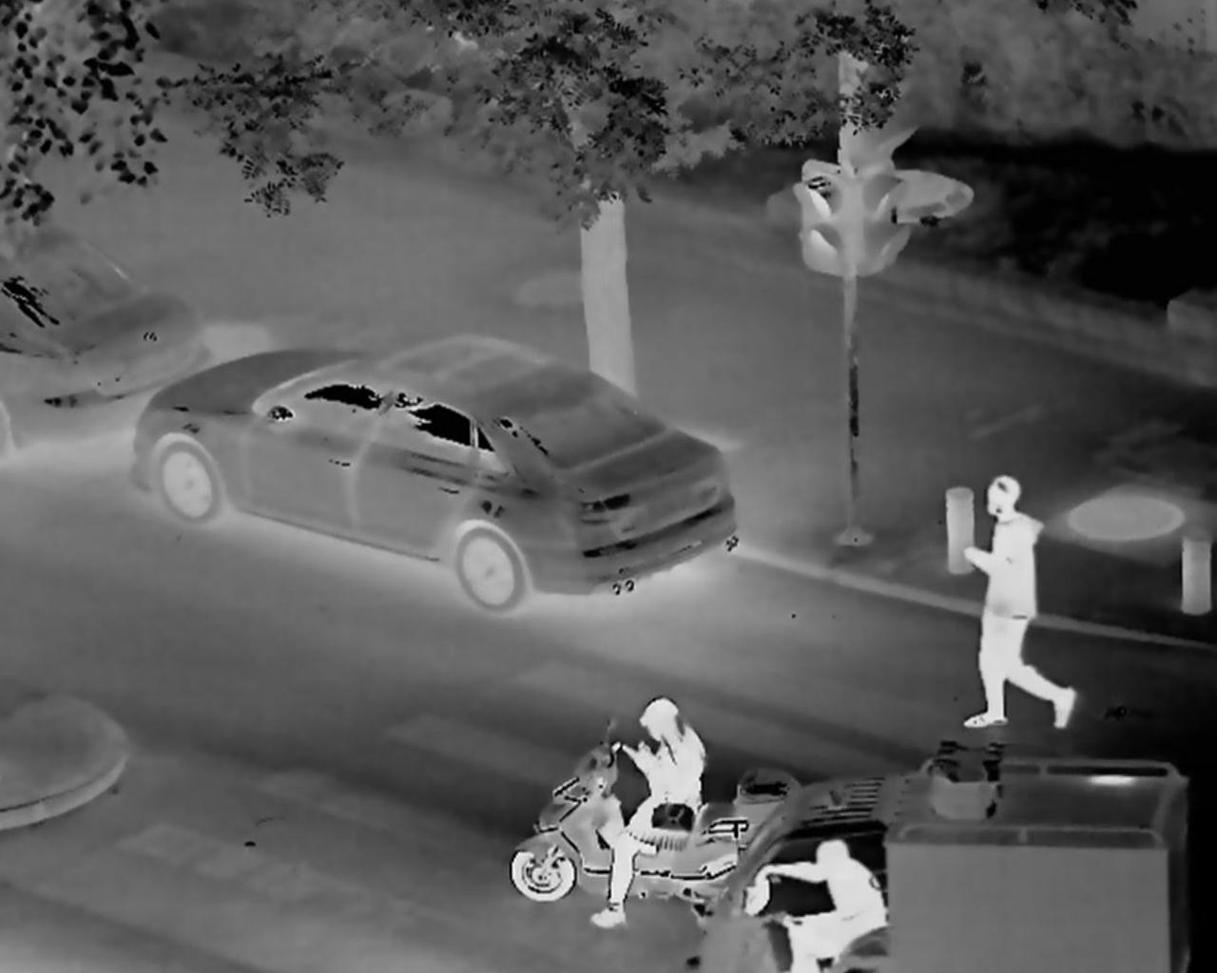person: (950, 469, 1076, 737), (591, 688, 702, 945)
